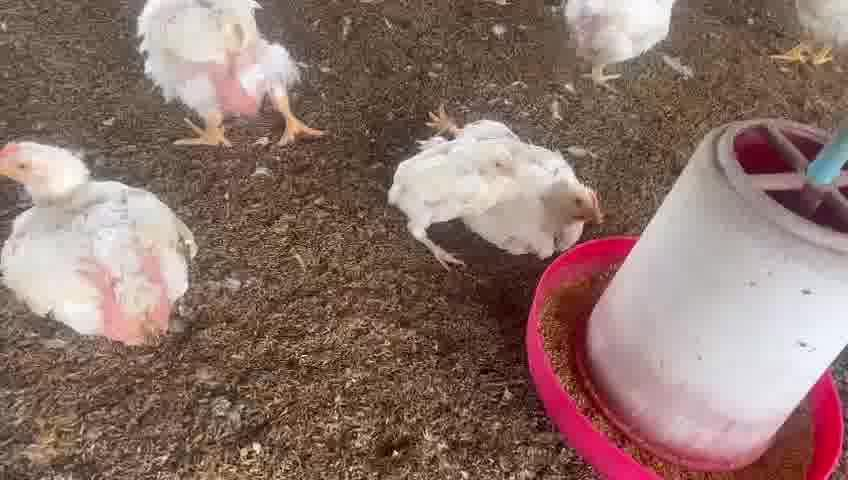AbNormal: (433, 104, 606, 265), (384, 138, 508, 257)
Normal: (0, 138, 201, 364), (130, 0, 324, 165), (562, 0, 682, 88)
